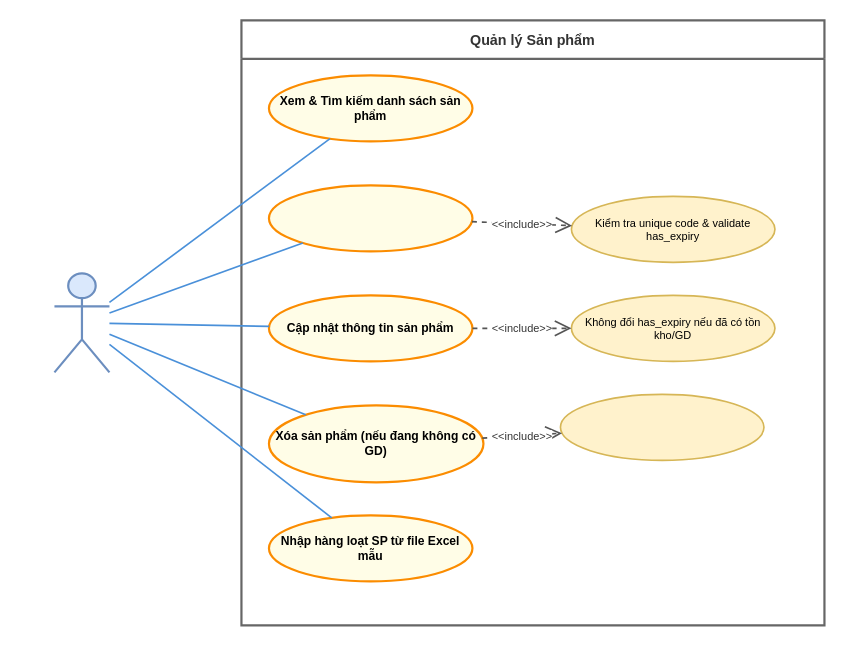
The diagram is 844 pixels wide and 645 high, and some of its shapes have lost their labels. The centre of each missing label's shape, as x and y in pixels:
Kiểm tra ràng buộc FK receipt_details: point 661,427
Quản trị viên (ADMIN): point 81,322
Thêm sản phẩm mới: point 370,218
